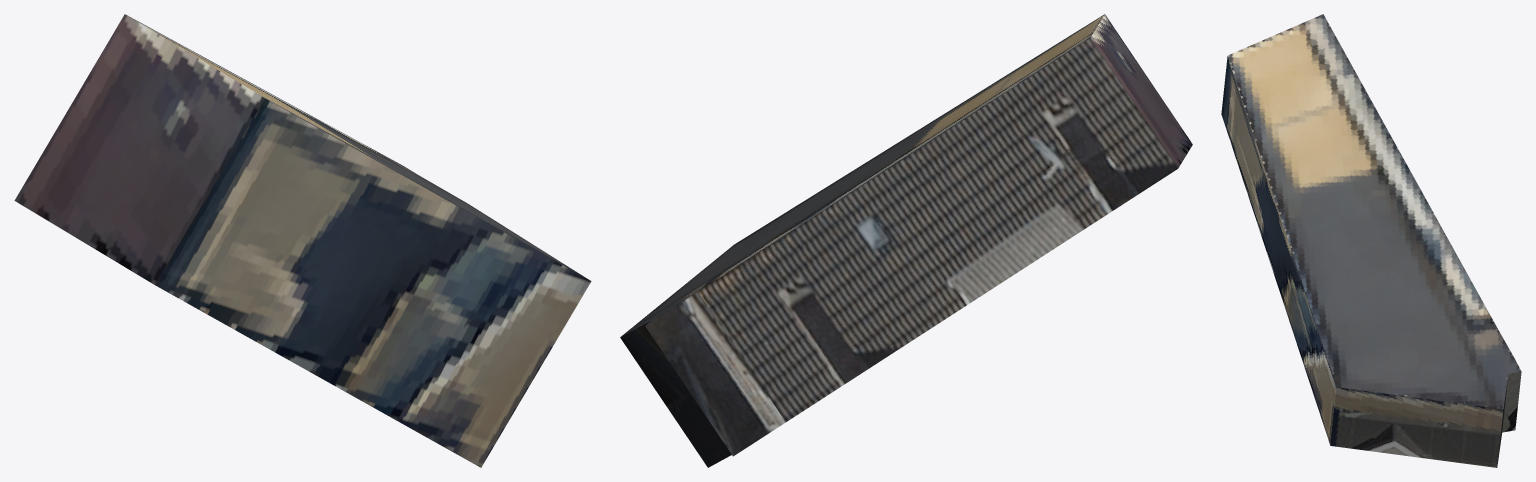
3 renders of one model, left to right at view 1: azimuth 30°, elevation 25°; view 2: azimuth 150°, elevation 25°; view 3: azimuth 270°, elevation 25°, orthographic. The views are drawn at different scales.
Visible parts, largest first — view 1: BAG_0599100000760370 (×2); view 2: BAG_0599100000760370 (×3); view 3: BAG_0599100000760370 (×2).
Part boxes in pixels (x1,y1,x2,y2): BAG_0599100000760370 (×2): (14, 14, 591, 467); BAG_0599100000760370 (×3): (620, 14, 1192, 467); BAG_0599100000760370 (×2): (1221, 14, 1521, 467).
Size of the model in its own units: 12.28 by 11.08 by 8.77.
Materials: 3 (3 with a texture image).
